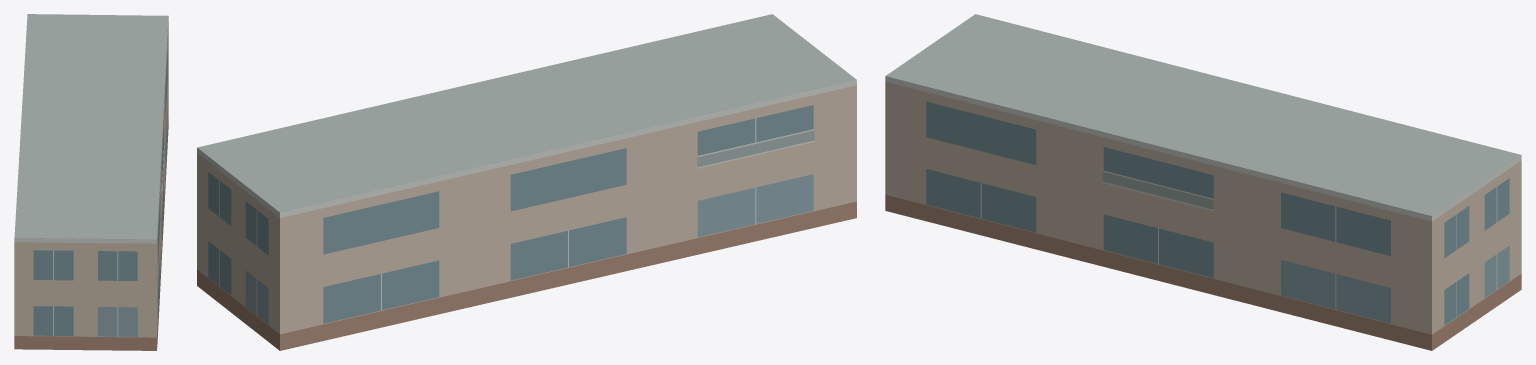
File: survey-upis-32963877.glb
3 renders of one model, left to right at view 1: azimuth 30°, elevation 25°; view 2: azimuth 150°, elevation 25°; view 3: azimuth 270°, elevation 25°, orthographic. The views are drawn at different scales.
Visible parts, largest first — view 1: survey-upis-32963877.tmp; view 2: survey-upis-32963877.tmp; view 3: survey-upis-32963877.tmp.
Boxes of the visible parts, x1,y1,x2,y2 form: survey-upis-32963877.tmp: [14, 14, 168, 350]; survey-upis-32963877.tmp: [197, 14, 856, 350]; survey-upis-32963877.tmp: [885, 14, 1521, 350].
Bounding box in the file's own units: 19.64 × 6.1 × 26.11.
